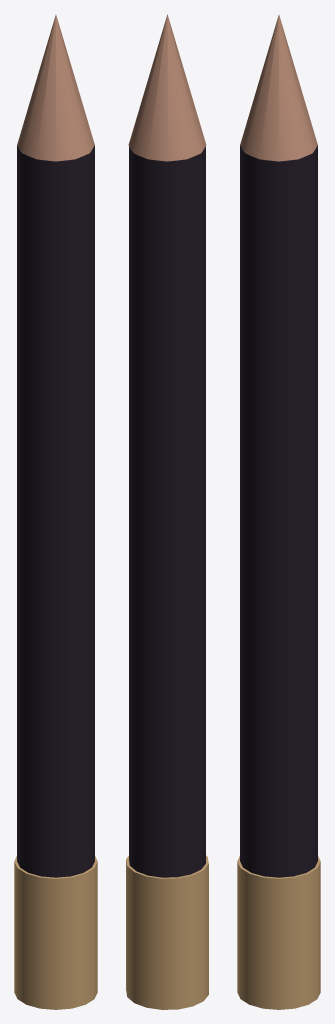
Rendered from TRD-01-07.glb.
3 views of the same model, side by side, from view 1: azimuth 90°, elevation 25°; view 2: azimuth 150°, elevation 25°; view 3: azimuth 270°, elevation 25° (orthographic).
Visible parts, largest first — view 1: TRD-01-07; view 2: TRD-01-07; view 3: TRD-01-07.
Part boxes in pixels (<box>): TRD-01-07: <box>14,15,97,1009</box>; TRD-01-07: <box>126,14,208,1009</box>; TRD-01-07: <box>237,15,320,1009</box>.
Bounding box in the file's own units: 0.075 × 0.97 × 0.075.
